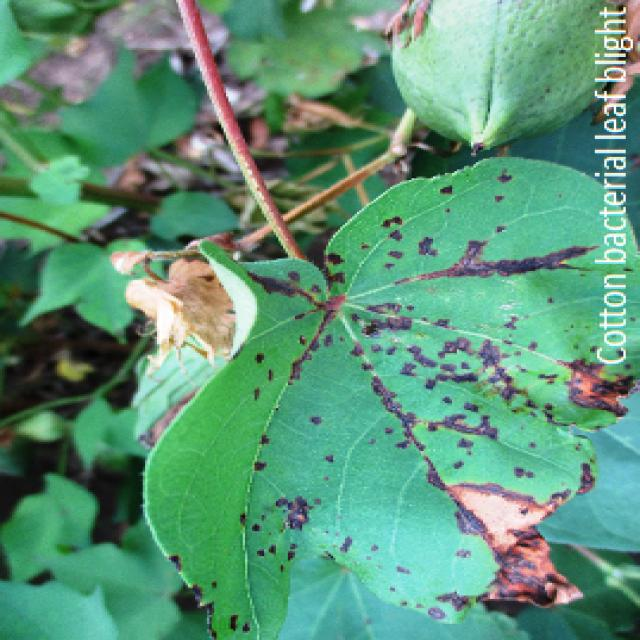Bacterial Blight: (314, 262, 583, 606)
